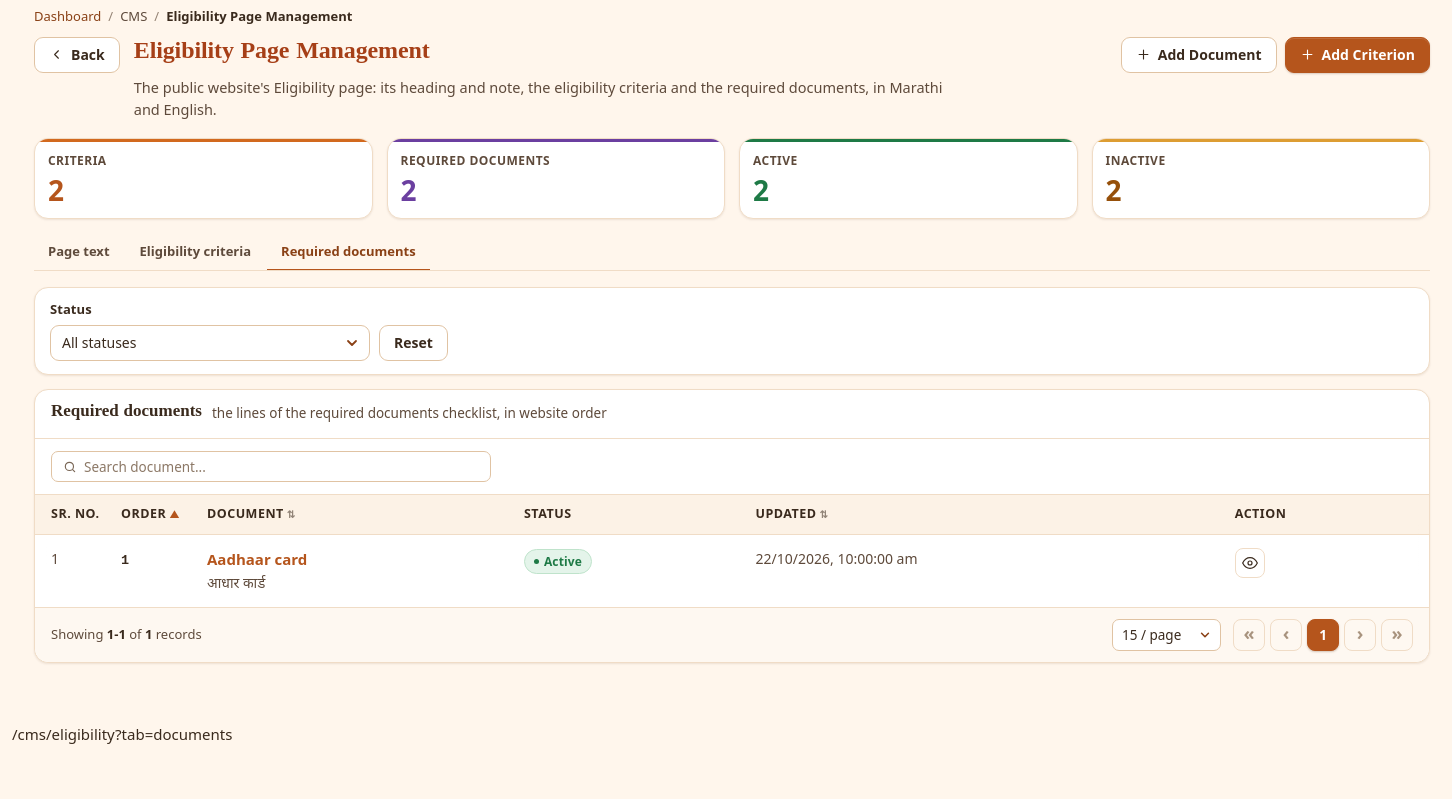
Test case: <EligibilityList> tabs › opens Add Document from the header
Click the button "Add Document" at (1199, 54), box [1121,36,1277,72]
(page scrolled)
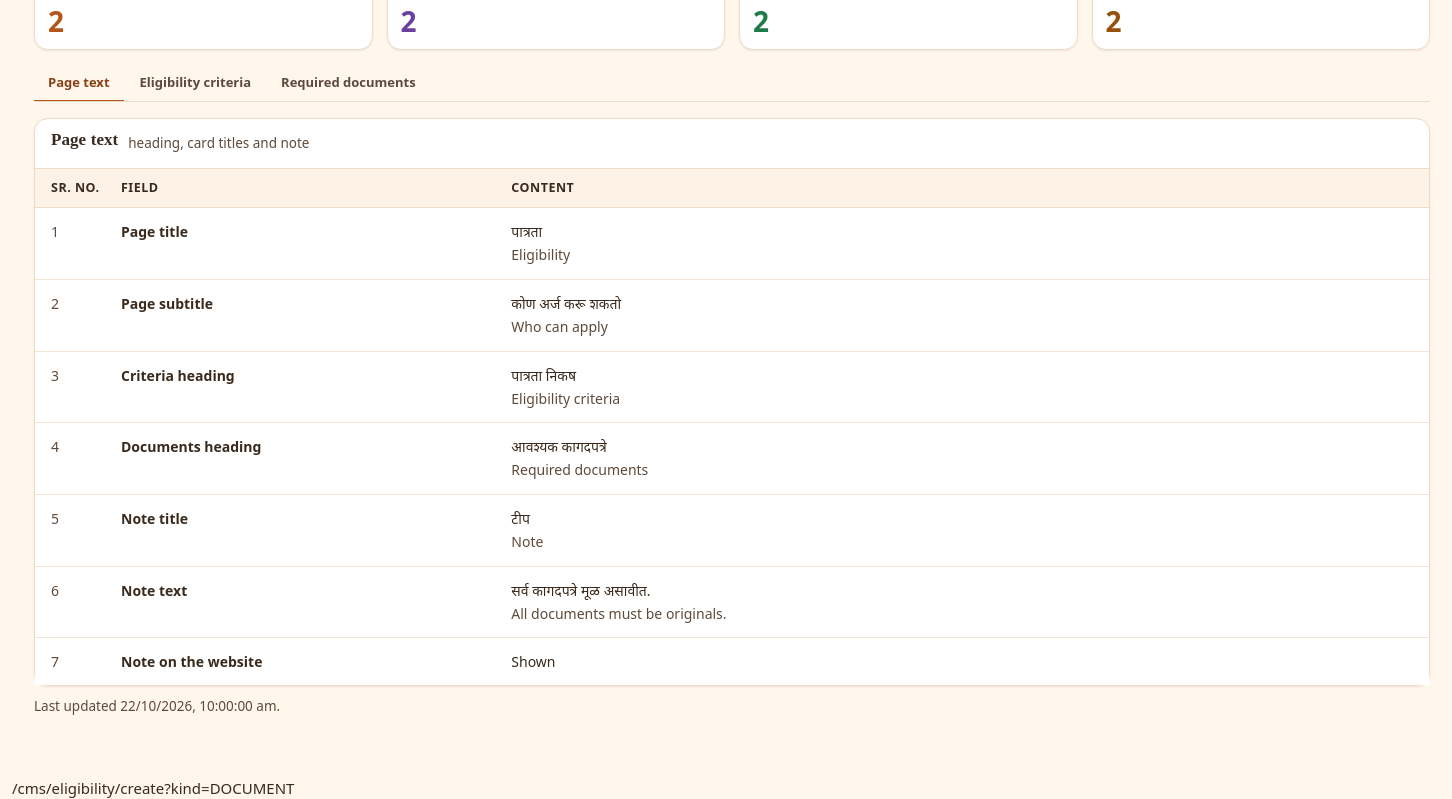
Now the text with test id "location" reads "/cms/eligibility/create?kind=DOCUMENT", box [12,778,294,798]
